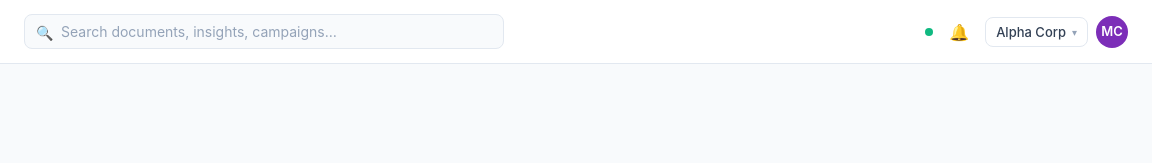
Header — workspace switcher › dropdown closes after selecting a workspace
Click the button with aria-label "switch workspace". click: (1037, 32)
box: [985,16,1088,46]
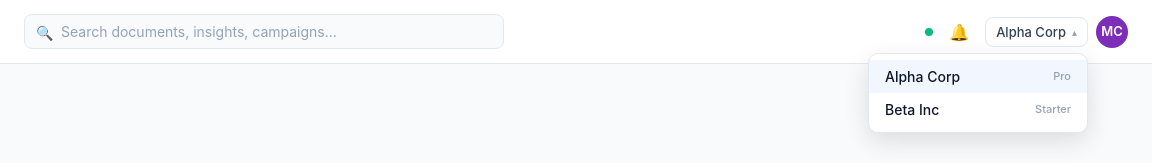
Click the option with test id "workspace-option-ws-b". click: (978, 109)
box: [869,92,1087,126]
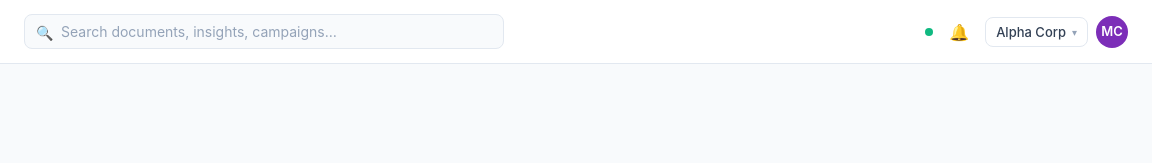
Expected: the list with test id "workspace-dropdown" is gone
